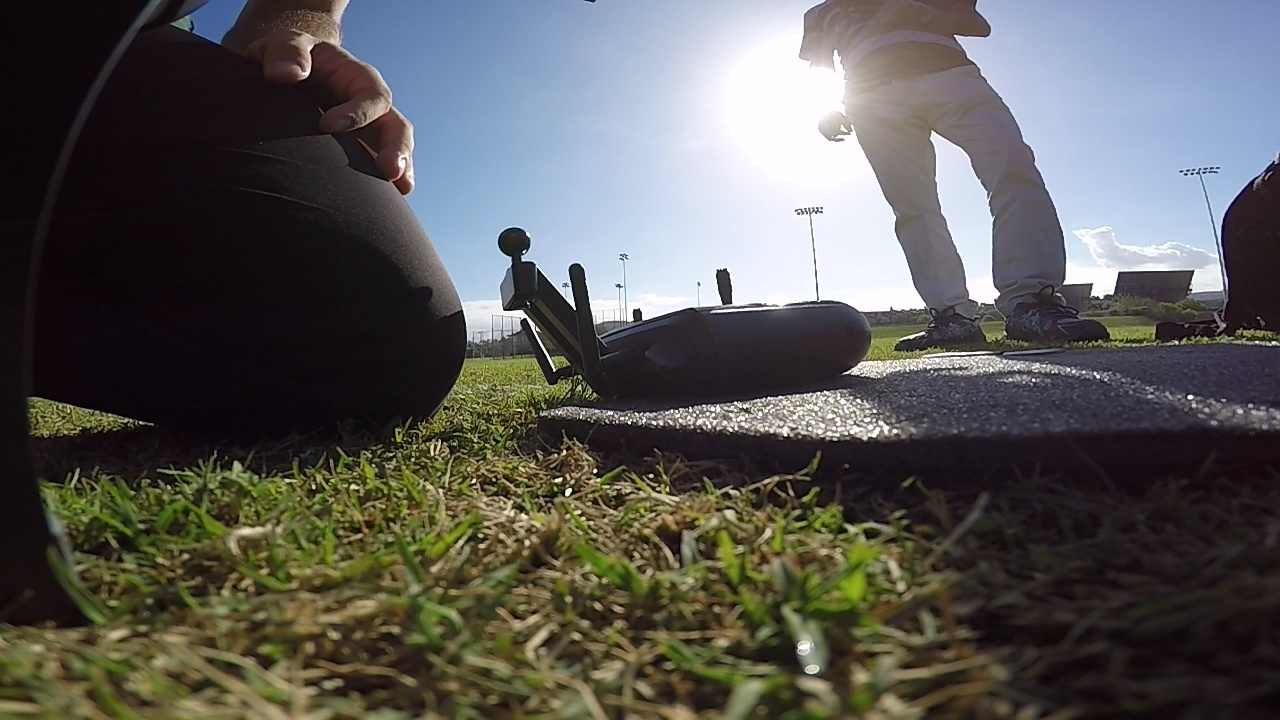person: (22, 25, 467, 512), (799, 0, 1093, 346)
